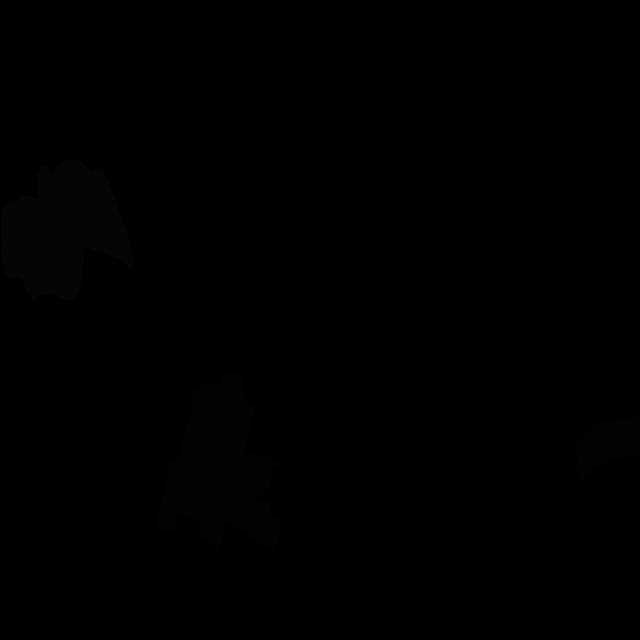cardboard: (156, 369, 280, 550), (575, 414, 640, 481)
soft_plastic: (0, 159, 133, 300)
